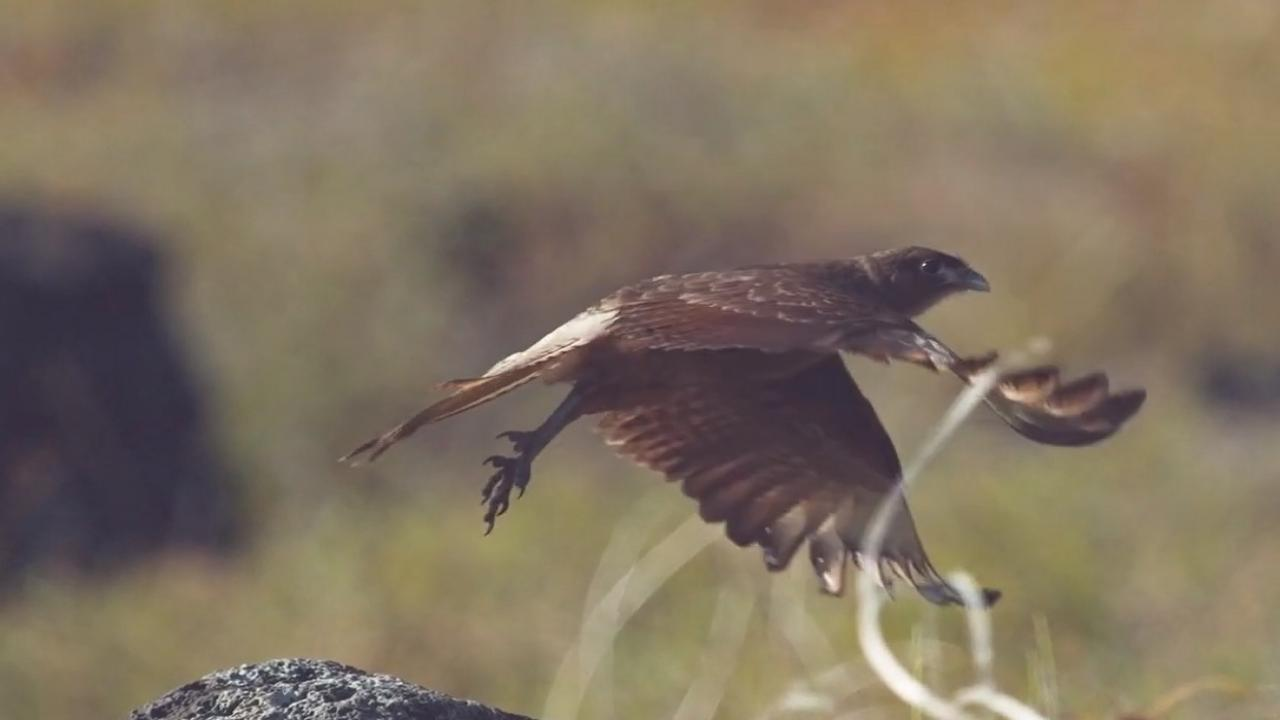Bird: (316, 230, 1169, 619)
